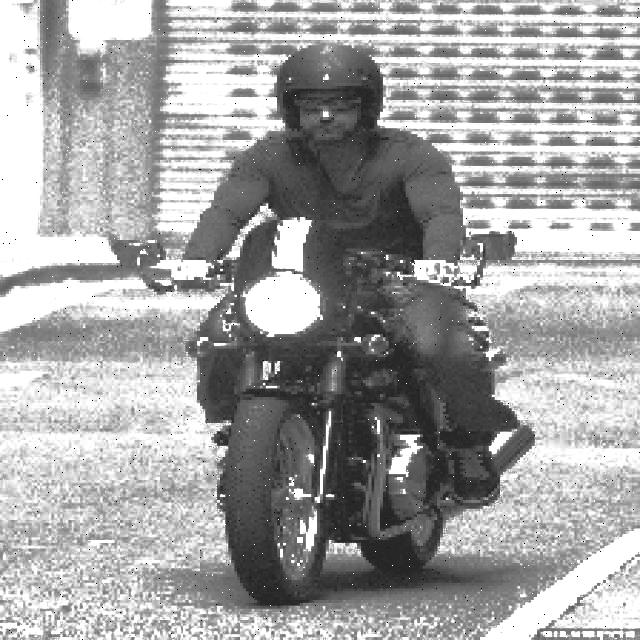Bike: (186, 255, 460, 607)
